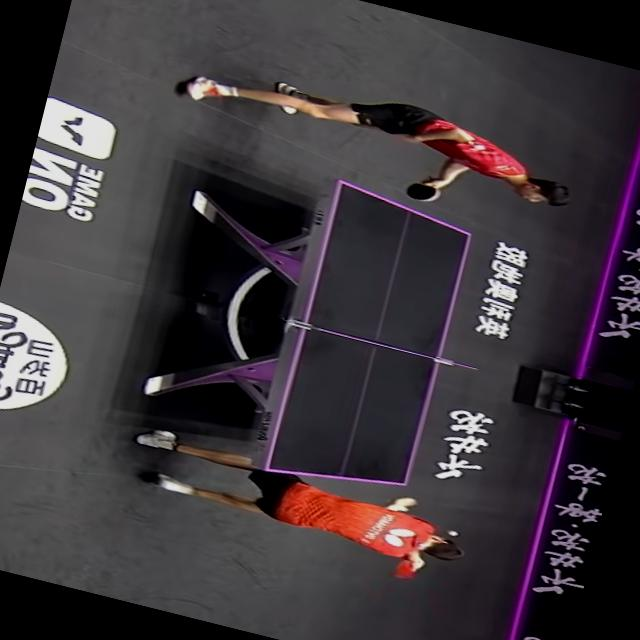TT Net: (285, 316, 479, 371)
TT Racket: (392, 172, 450, 211), (382, 549, 426, 588)
TT Table: (261, 179, 473, 505)
